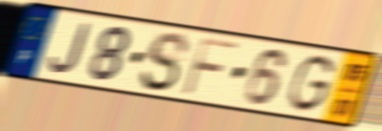6: (243, 47, 290, 107)
8: (88, 24, 131, 84)
F: (179, 35, 242, 99)
G: (286, 53, 337, 115)
J: (48, 20, 94, 76)
S: (137, 29, 192, 95)
